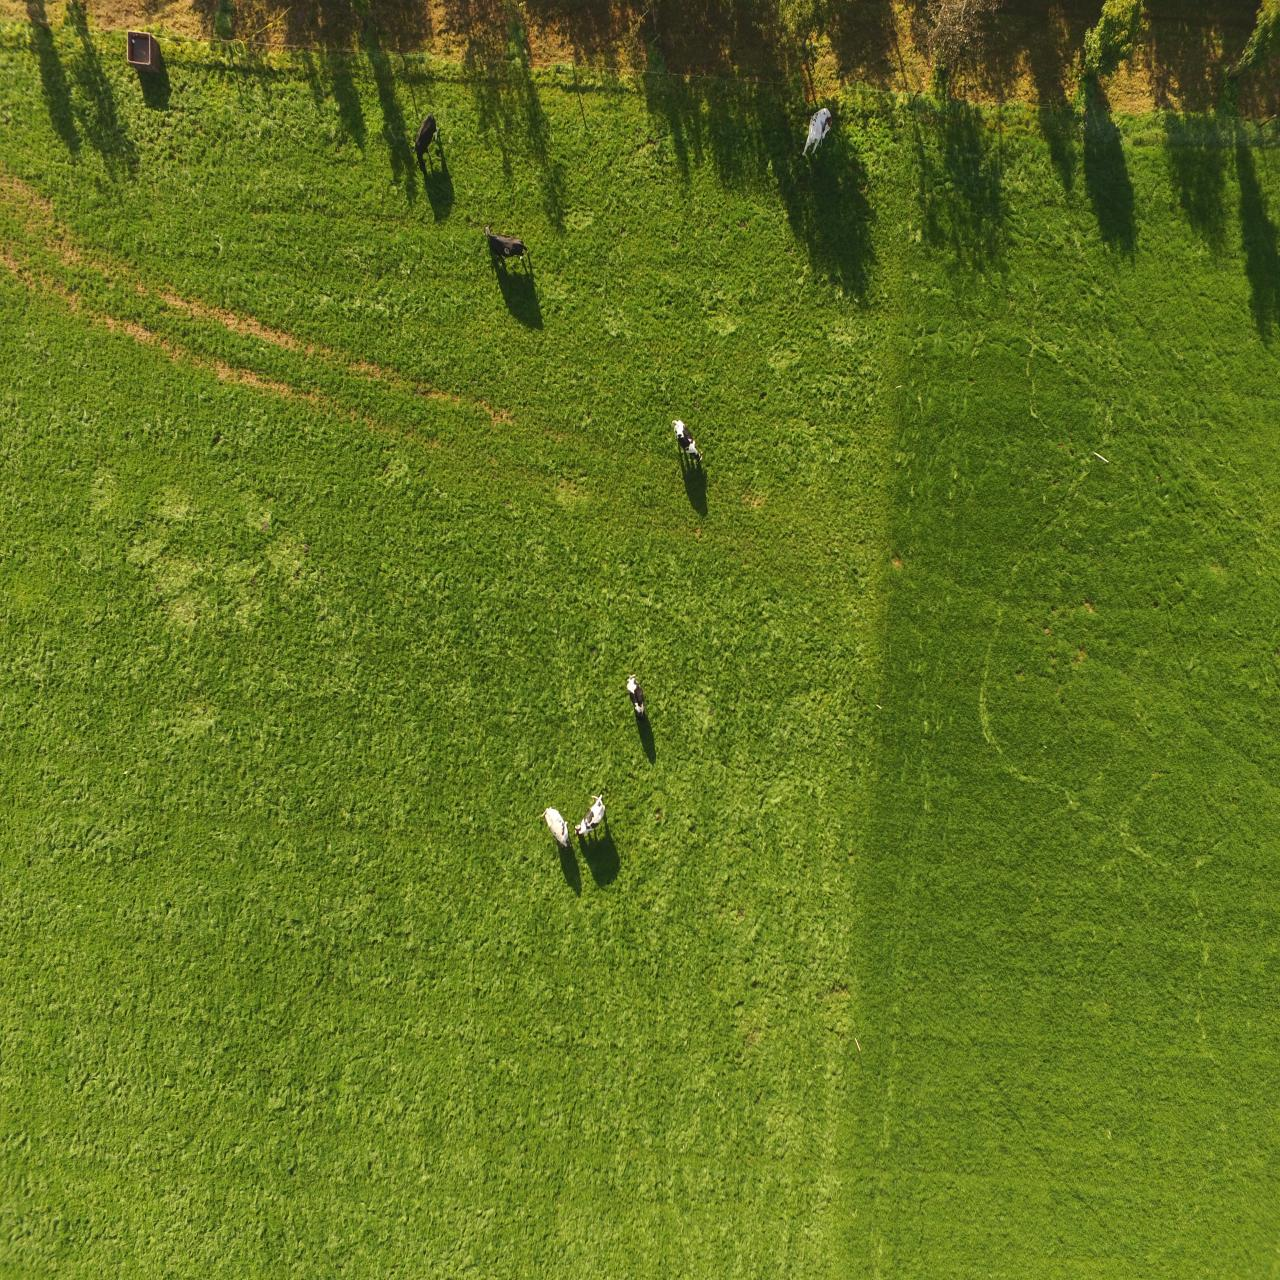cow: (559, 783, 613, 859), (674, 415, 710, 481), (798, 102, 835, 165), (402, 110, 441, 169), (484, 229, 533, 273), (542, 796, 577, 855), (626, 675, 660, 731)
